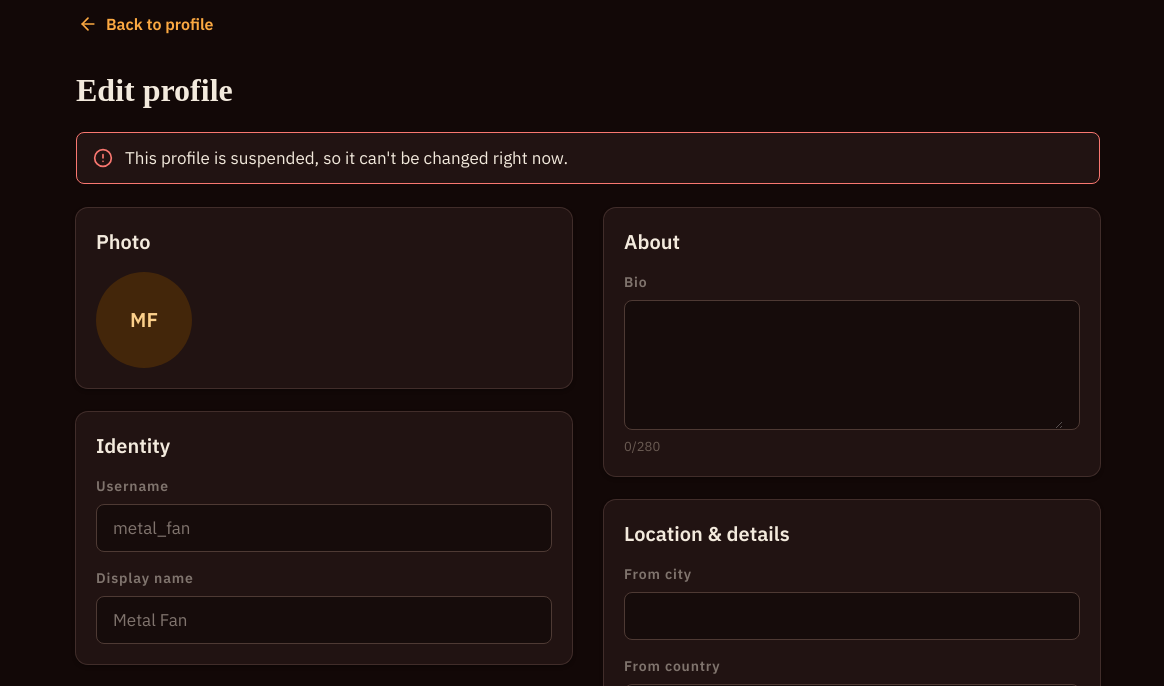
Test: suspended profile edits read-only; the user page shows moderation text as plain text
Expected: the field labelled "Username" is disabled, [113, 515, 535, 541]
Click the link "Back to profile".
click(146, 24)  # box [78, 14, 214, 34]
(page scrolled)
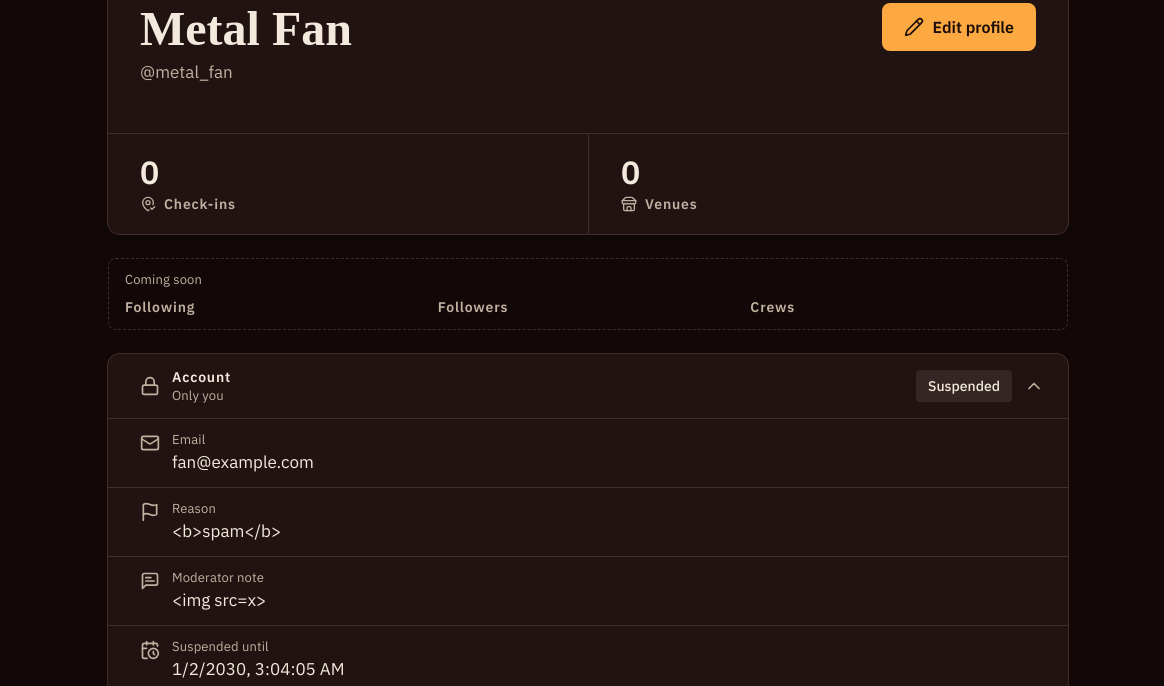
Now the text "Suspended" is shown, box [916, 370, 1012, 402]
Now the text "<b>spam</b>" is shown, box [172, 520, 281, 542]
Now the text "<img src=x>" is shown, box [172, 589, 266, 611]
